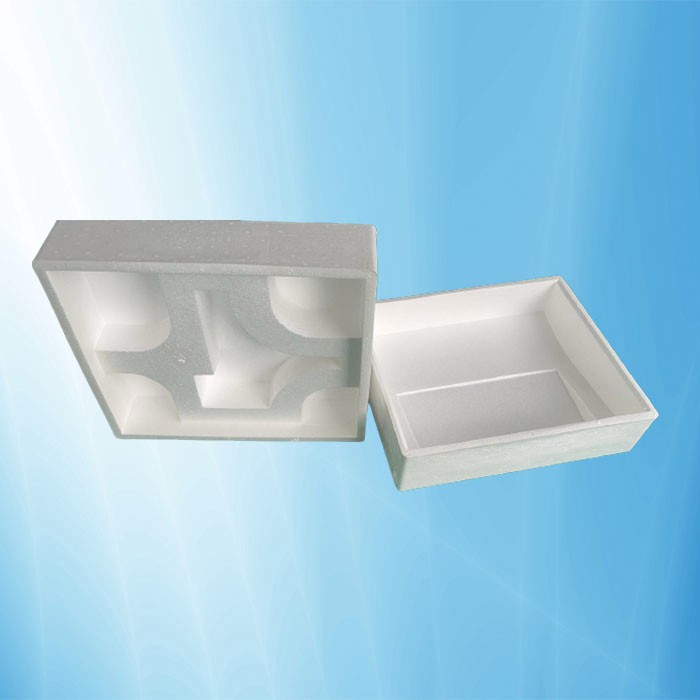Parcel: (33, 221, 656, 489)
